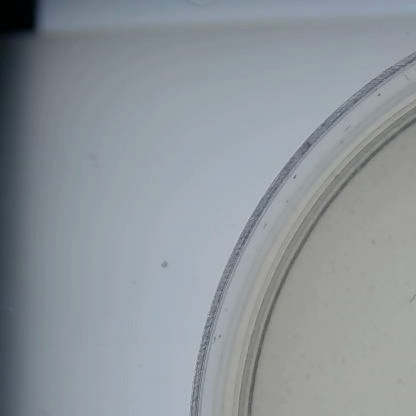worm: (403, 283, 416, 307)
